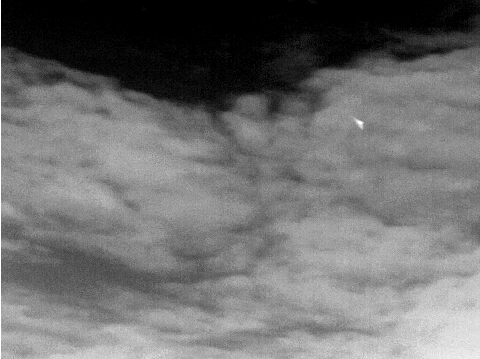dim target: (352, 114, 365, 130)
